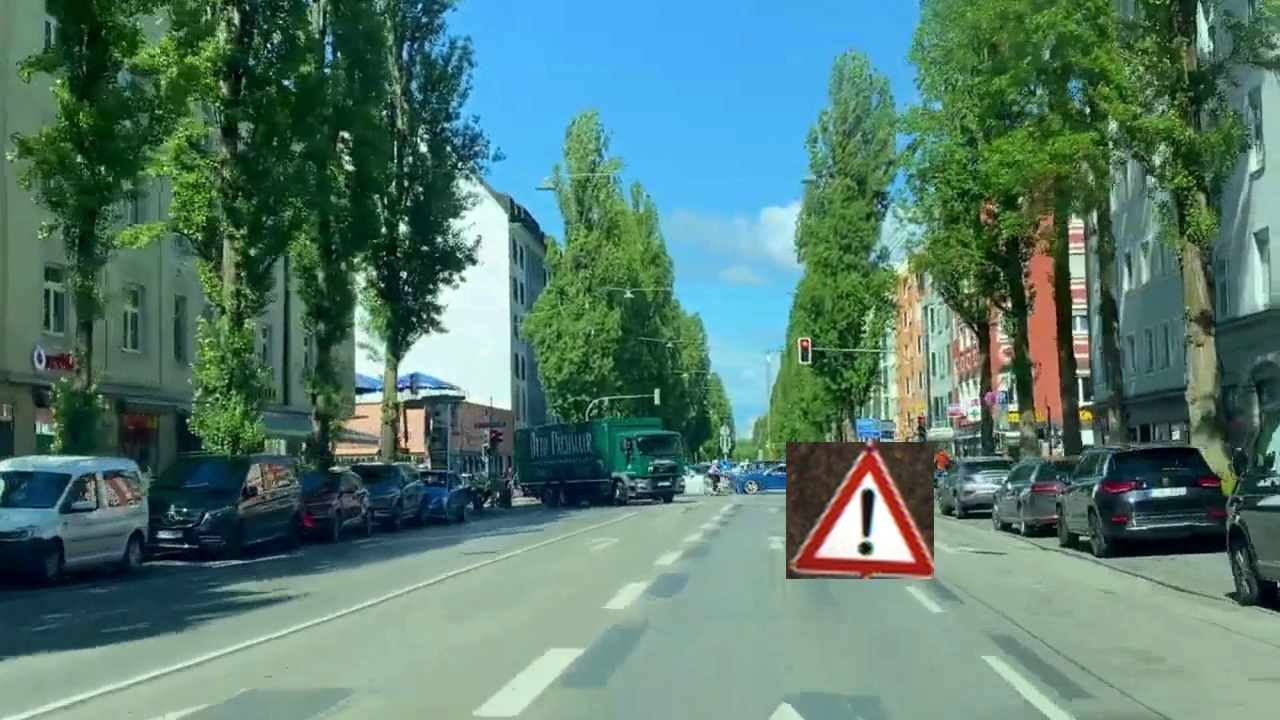Caution: (786, 442, 934, 579)
